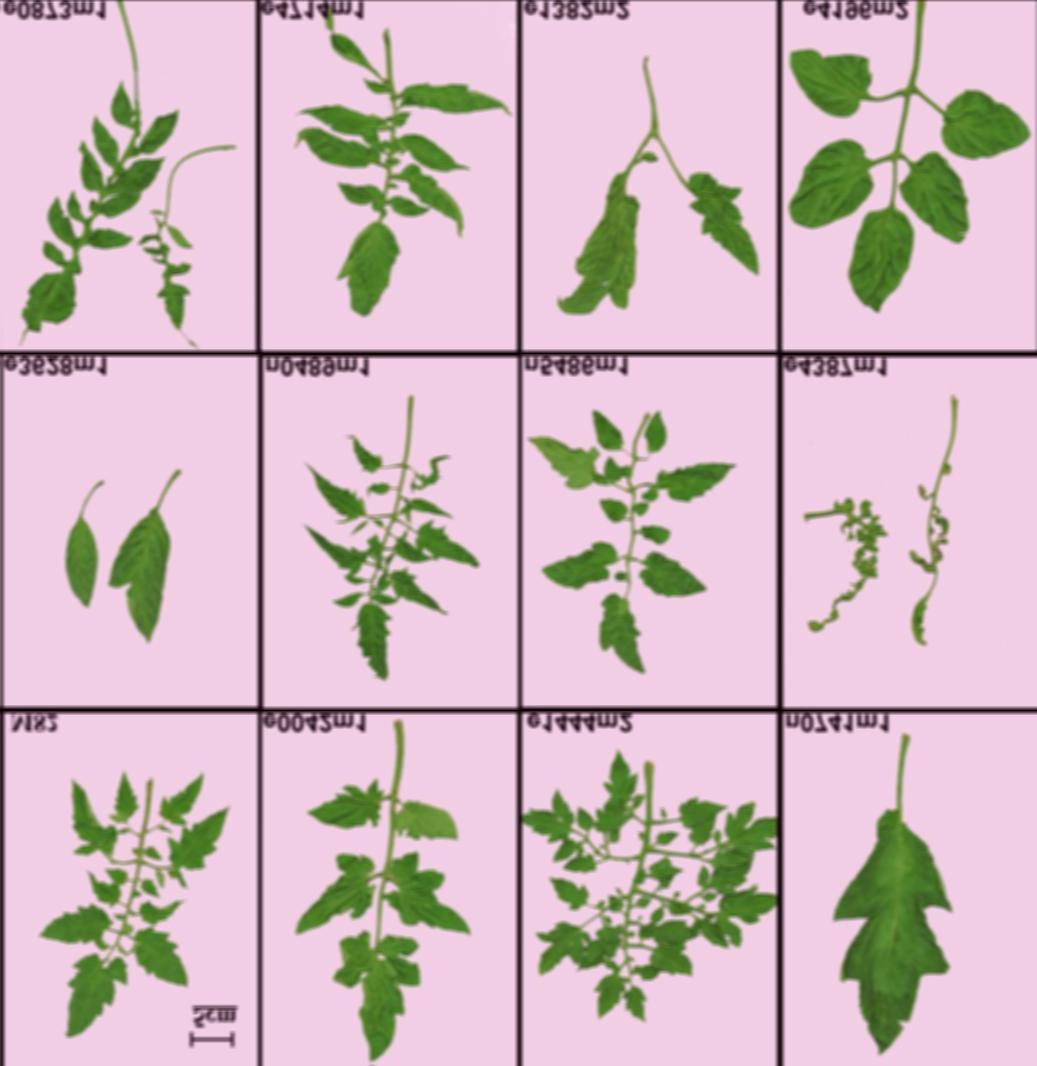Tomato leaf: (810, 807, 966, 1055), (333, 930, 416, 1061), (290, 852, 373, 938), (382, 864, 469, 945), (379, 790, 473, 842), (347, 605, 402, 693), (596, 587, 639, 692), (626, 552, 715, 601)
